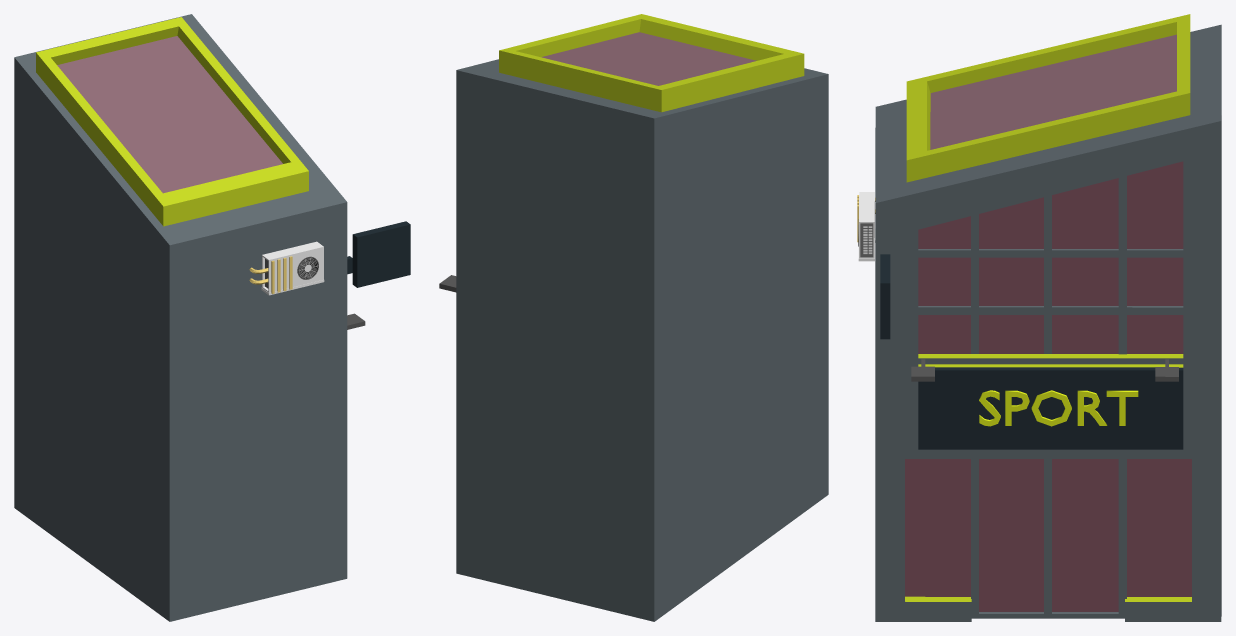
Rendered from Sports_Shop.glb.
3 views of the same model, side by side, from view 1: azimuth 30°, elevation 25°; view 2: azimuth 150°, elevation 25°; view 3: azimuth 270°, elevation 25° (orthographic). The views are drawn at different scales.
Parts seen in each view (by area): view 1: Cube.13002, Cube.12997, Cube.13000, Cube.13883; view 2: Cube.13002, Cube.12997; view 3: Cube.13002, Cube.12997, Cube.13001, Cube.12998, Text.054, Cube.13883, Cube.13000.
Boxes of the visible parts, box(x1,y1,x2,y2) form: Cube.13002: box(14, 14, 347, 621); Cube.12997: box(36, 17, 308, 226); Cube.13000: box(352, 221, 410, 287); Cube.13883: box(249, 241, 324, 295); Cube.13002: box(456, 59, 828, 621); Cube.12997: box(499, 14, 804, 112); Cube.13002: box(875, 24, 1221, 621); Cube.12997: box(906, 14, 1190, 182); Cube.13001: box(918, 364, 1183, 449); Cube.12998: box(918, 176, 1183, 618); Text.054: box(979, 390, 1138, 426); Cube.13883: box(857, 192, 875, 261); Cube.13000: box(880, 254, 890, 339).
Size of the model in its own units: 0.1689 by 0.3088 by 0.1972.
